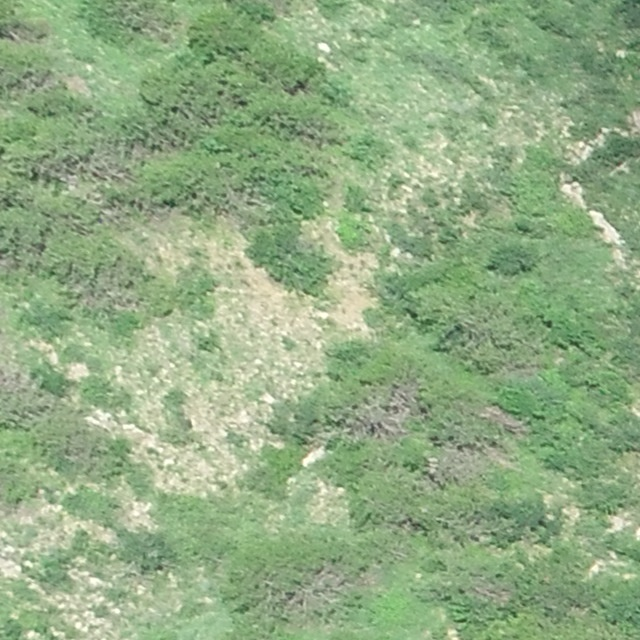unhealthy: (359, 382, 419, 438), (285, 567, 350, 608), (482, 404, 529, 435), (445, 443, 480, 474)
